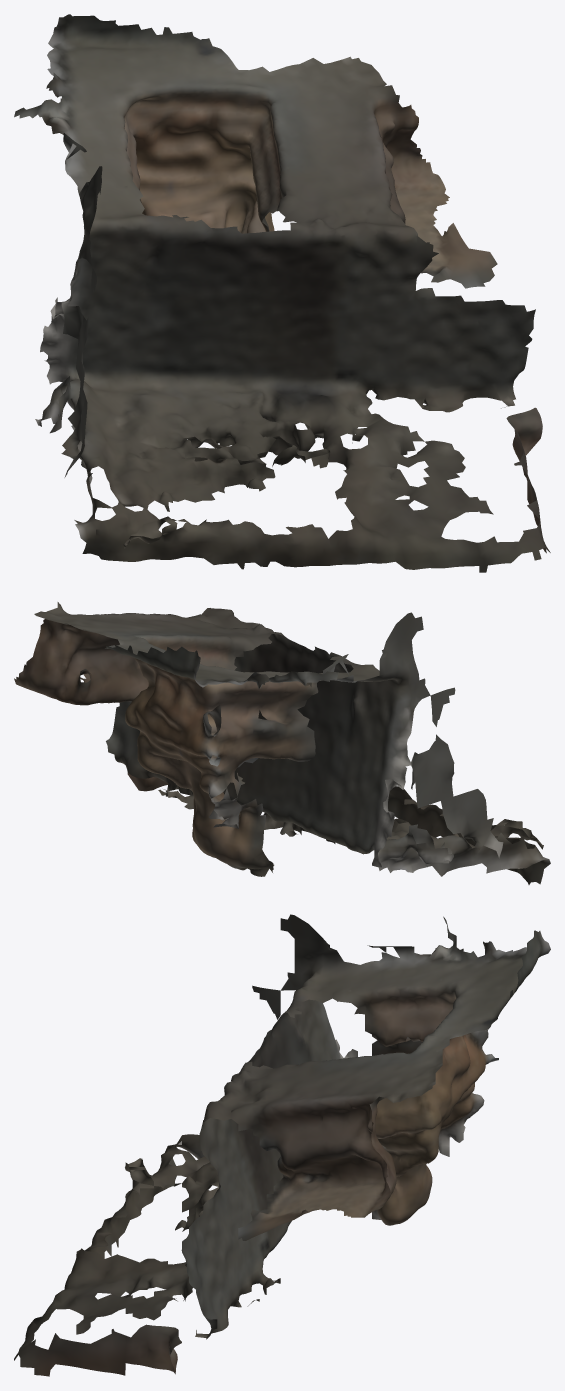
File: surface-L2-clean.obj
The picture shows the model from 3 angles, top to bottom: view 1: azimuth 30°, elevation 25°; view 2: azimuth 150°, elevation 25°; view 3: azimuth 270°, elevation 25°; orthographic projection. The views are drawn at different scales.
Size of the model in its own units: 5.84 by 4.6 by 6.32.
